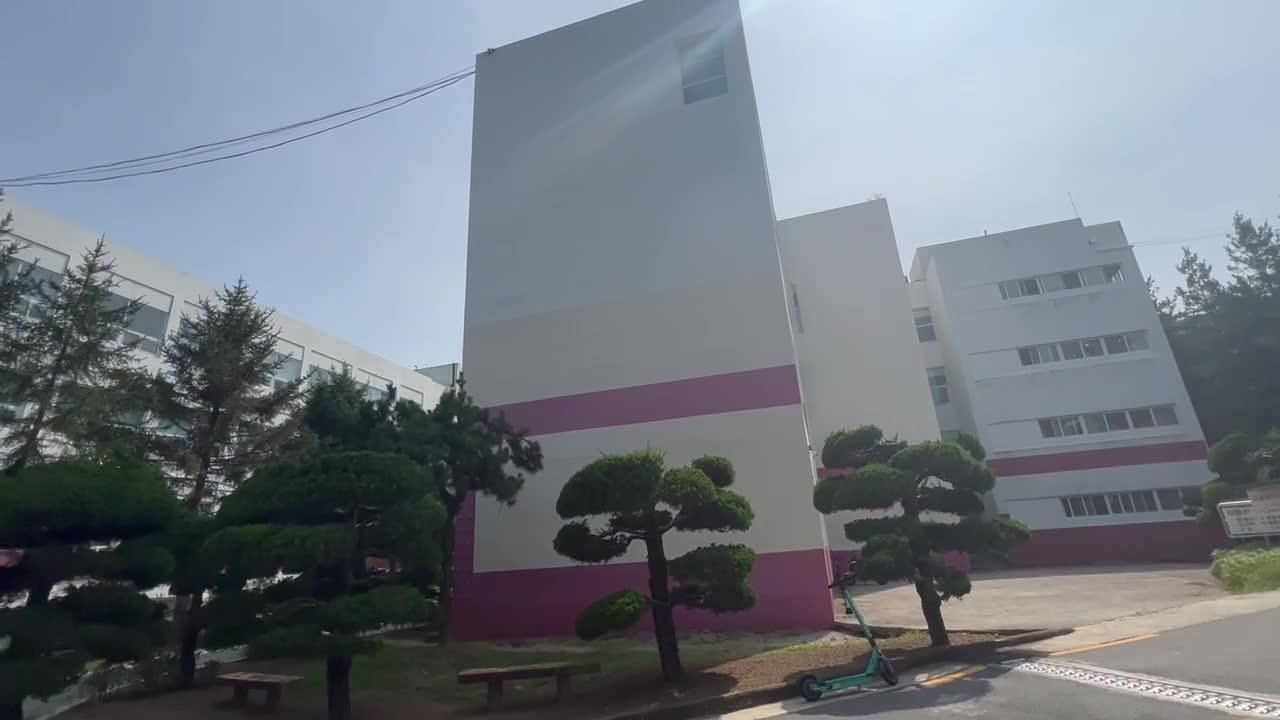building: (460, 0, 1211, 614)
